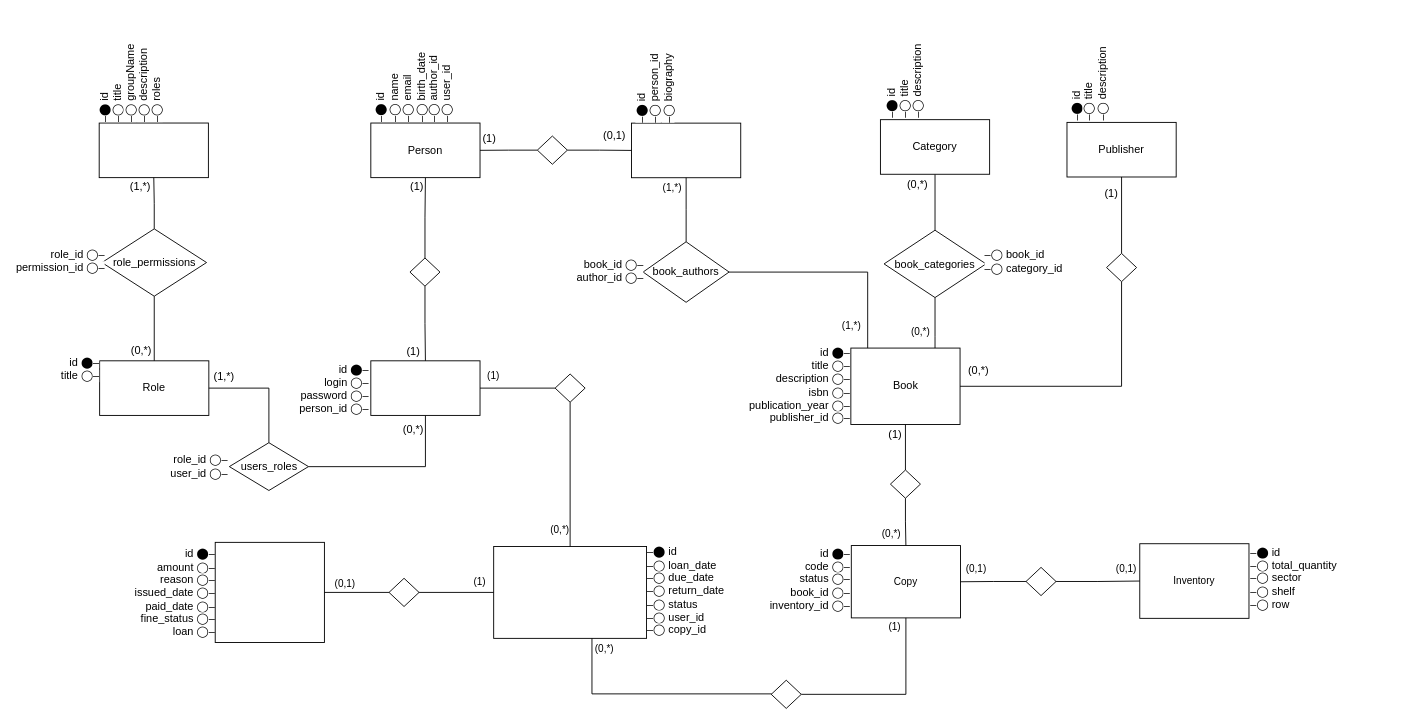
Image size: 1418x725. Some labels were removed from this diagram. The shapes that lost their labels are listed below. From the top down, each one's centre as x and y in pixels, then its label:
At [153,150]: "Permission".
At [686,150]: "Author".
At [425,387]: "User".
At [269,591]: "Fine".
At [570,592]: "Loan".
